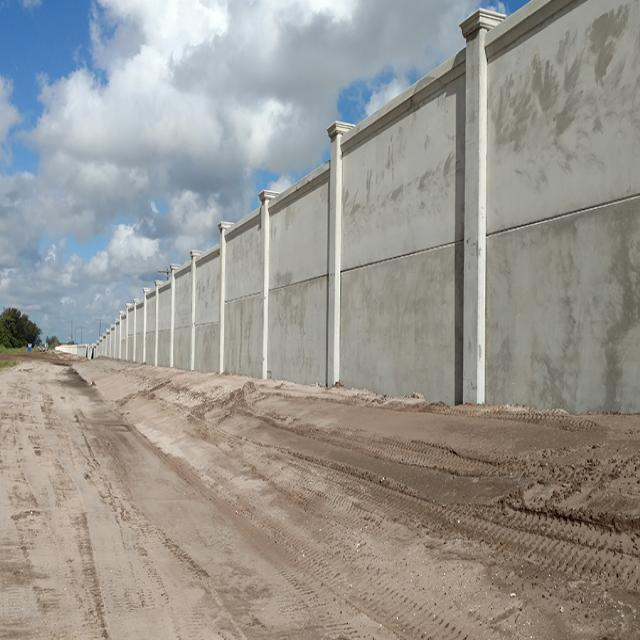Concrete: (13, 0, 640, 405)
